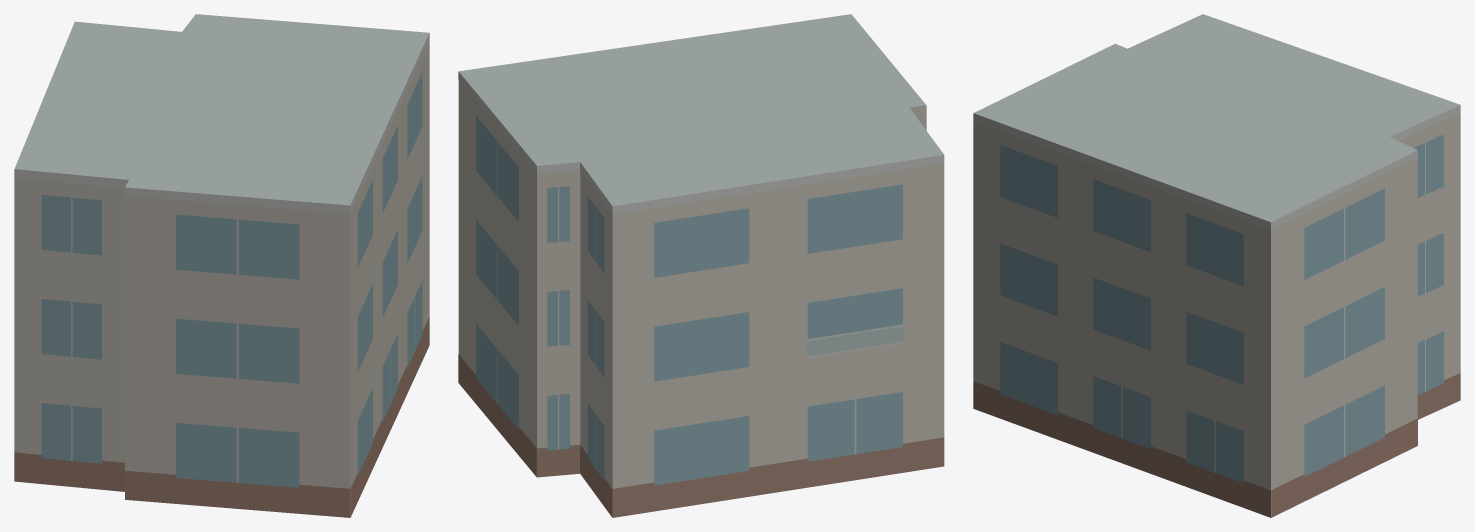
File: survey-upis-32786724.glb
3 renders of one model, left to right at view 1: azimuth 30°, elevation 25°; view 2: azimuth 150°, elevation 25°; view 3: azimuth 270°, elevation 25°, orthographic. The views are drawn at different scales.
Visible parts, largest first — view 1: survey-upis-32786724.tmp; view 2: survey-upis-32786724.tmp; view 3: survey-upis-32786724.tmp.
Boxes of the visible parts, x1=… form: survey-upis-32786724.tmp: x1=14, y1=14, x2=429, y2=517; survey-upis-32786724.tmp: x1=458, y1=14, x2=944, y2=517; survey-upis-32786724.tmp: x1=973, y1=14, x2=1460, y2=517.
Size of the model in its own units: 13.84 by 9.15 by 13.68.
